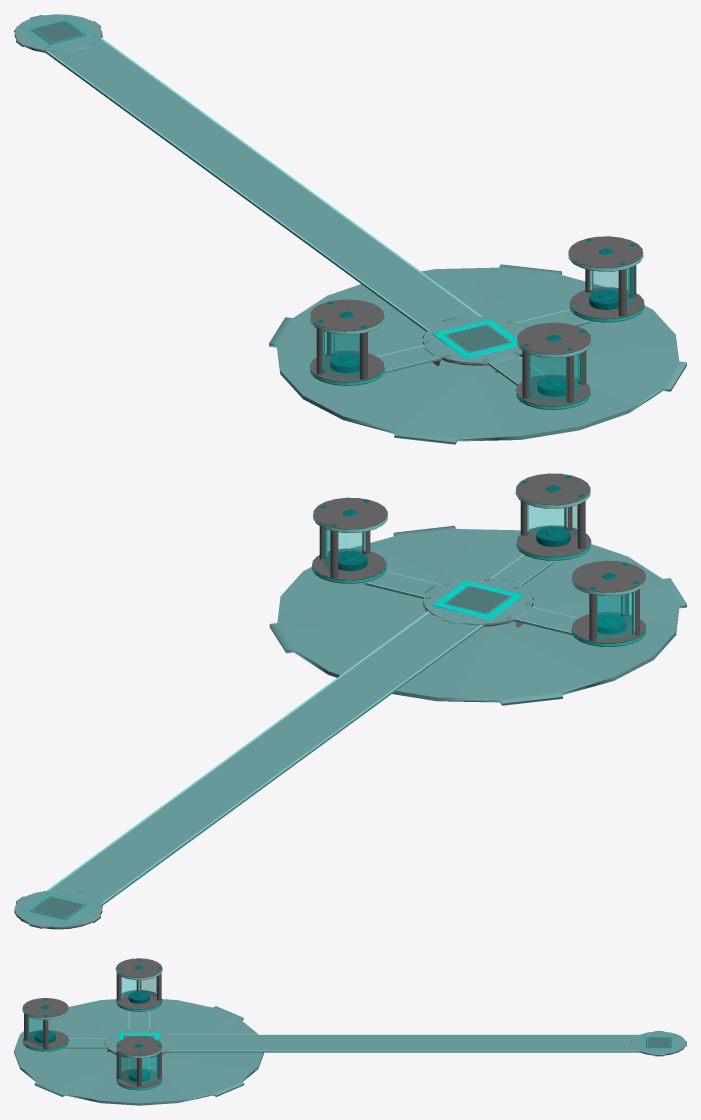
The model's file is MAINMENU (3).fbx.
The picture shows the model from 3 angles, top to bottom: view 1: azimuth 30°, elevation 25°; view 2: azimuth 150°, elevation 25°; view 3: azimuth 270°, elevation 25°; orthographic projection. The views are drawn at different scales.
Parts seen in each view (by area): view 1: pCylinder81, pCube10, pCylinder68, pCylinder1, pCylinder25, pCylinder77, pCylinder60, pCylinder43, pCylinder34, pCube6, pCylinder7, pCube14 (+9 smaller); view 2: pCylinder81, pCube10, pCylinder1, pCylinder25, pCylinder77, pCylinder60, pCylinder43, pCylinder34, pCube6, pCylinder11, pCylinder7, pCube14 (+9 smaller); view 3: pCylinder81, pCube10, pCylinder51, pCylinder25, pCylinder60, pCylinder43, pCylinder77, pCylinder1, pCylinder11, pCylinder9, pCylinder7, pCylinder68 (+5 smaller).
Boxes of the visible parts, x1=… form: pCylinder81: x1=269, y1=264, x2=686, y2=444; pCube10: x1=45, y1=37, x2=481, y2=331; pCylinder68: x1=528, y1=353, x2=582, y2=403; pCylinder1: x1=423, y1=316, x2=526, y2=364; pCylinder25: x1=14, y1=14, x2=102, y2=51; pCylinder77: x1=517, y1=322, x2=591, y2=357; pCylinder60: x1=568, y1=236, x2=642, y2=271; pCylinder43: x1=310, y1=299, x2=384, y2=334; pCylinder34: x1=316, y1=328, x2=359, y2=378; pCube6: x1=436, y1=321, x2=516, y2=356; pCylinder7: x1=569, y1=287, x2=644, y2=322; pCube14: x1=23, y1=17, x2=93, y2=47; pCylinder81: x1=269, y1=525, x2=686, y2=705; pCube10: x1=47, y1=611, x2=483, y2=905; pCylinder1: x1=423, y1=577, x2=533, y2=624; pCylinder25: x1=14, y1=890, x2=102, y2=928; pCylinder77: x1=516, y1=473, x2=590, y2=508; pCylinder60: x1=313, y1=497, x2=387, y2=532; pCylinder43: x1=571, y1=560, x2=645, y2=595; pCylinder34: x1=596, y1=589, x2=639, y2=639; pCube6: x1=436, y1=582, x2=520, y2=617; pCylinder11: x1=516, y1=525, x2=590, y2=560; pCylinder7: x1=312, y1=548, x2=386, y2=583; pCube14: x1=23, y1=893, x2=93, y2=923; pCylinder81: x1=14, y1=999, x2=263, y2=1105; pCube10: x1=166, y1=1034, x2=640, y2=1052; pCylinder51: x1=119, y1=1054, x2=158, y2=1086; pCylinder25: x1=631, y1=1031, x2=686, y2=1055; pCylinder60: x1=116, y1=1036, x2=162, y2=1058; pCylinder43: x1=116, y1=958, x2=162, y2=980; pCylinder77: x1=22, y1=998, x2=68, y2=1019; pCylinder1: x1=104, y1=1027, x2=174, y2=1055; pCylinder11: x1=22, y1=1030, x2=68, y2=1051; pCylinder9: x1=116, y1=990, x2=162, y2=1011; pCylinder7: x1=116, y1=1068, x2=162, y2=1090; pCylinder68: x1=24, y1=1014, x2=42, y2=1047.
Bounding box in the file's own units: 59.66 × 14.19 × 160.
